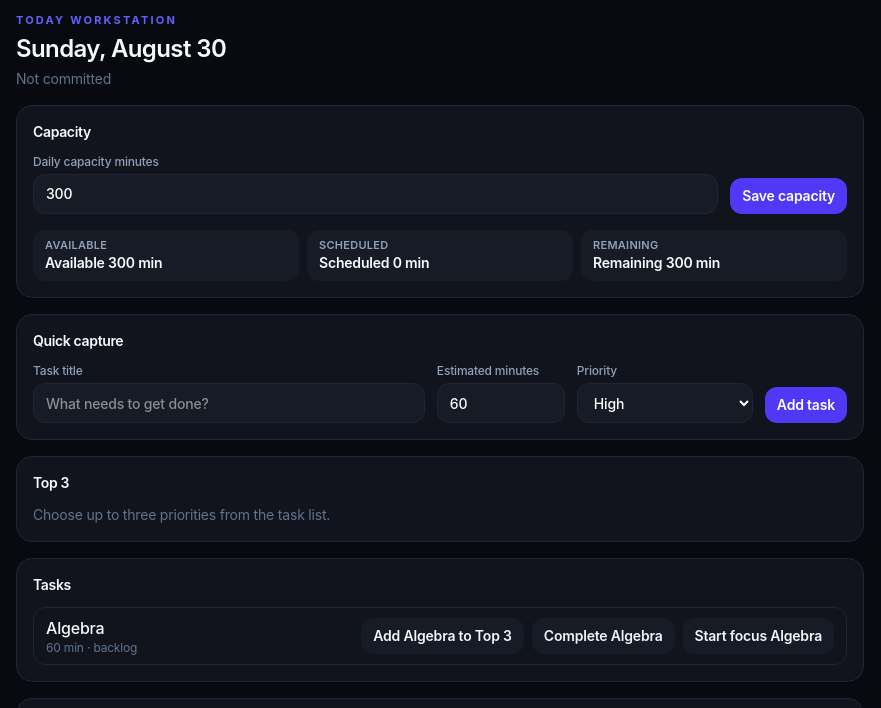
Test case: keeps previous view and shows error when persistence mutation fails
Expected: the button "Complete Algebra" is shown, [532, 618, 675, 654]
Step 1. Replace the text in the number field labelled "Daily capacity minutes" with "240" → (376, 194), box [33, 174, 718, 214]
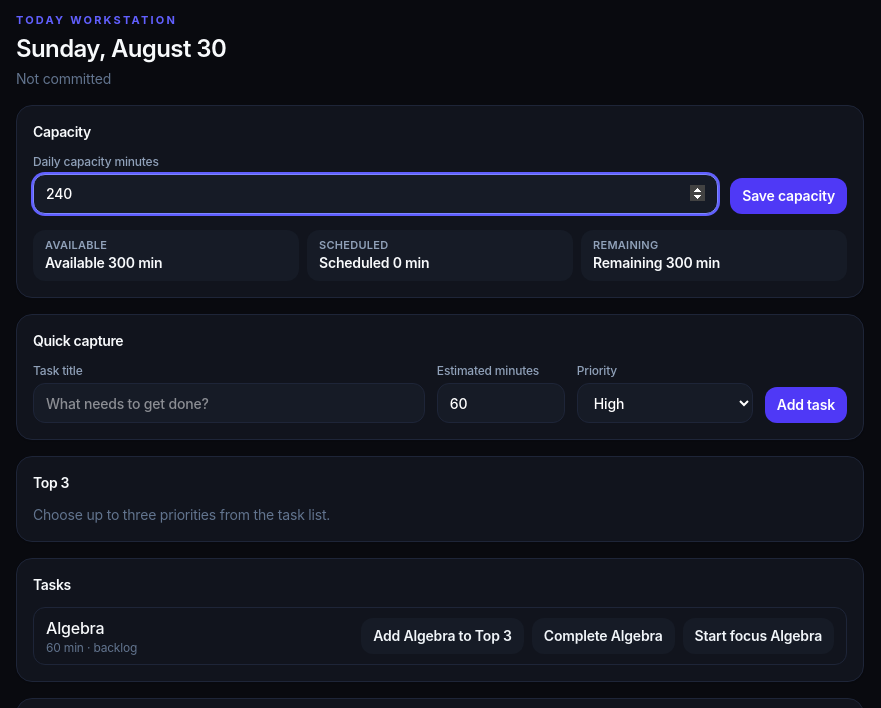
Step 2. Click the button "Save capacity" → (789, 196), box [730, 178, 847, 214]
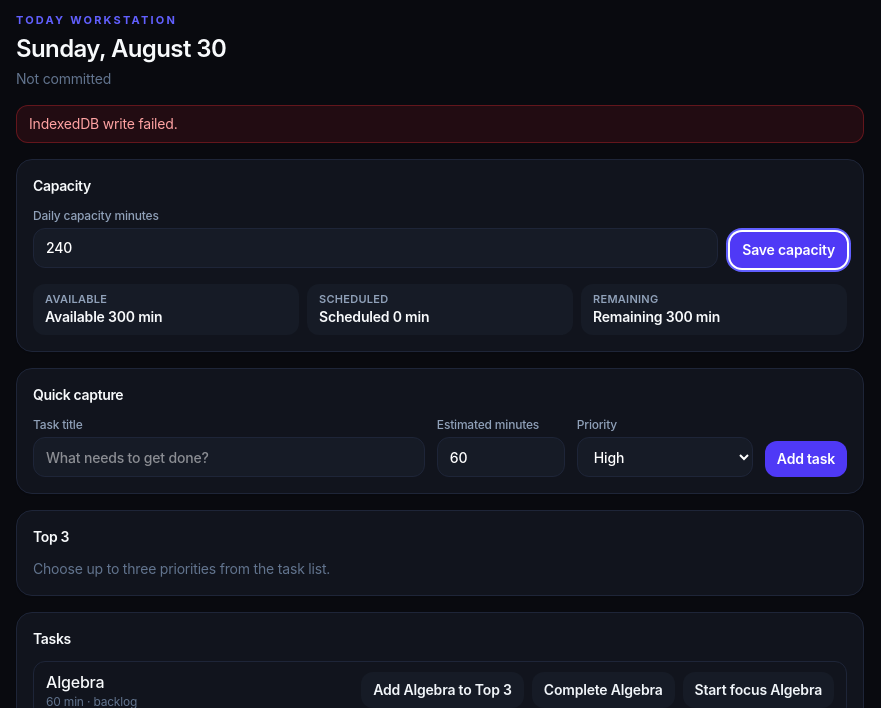
Expected: the button "Complete Algebra" is shown, [532, 672, 675, 707]
Result: the text "IndexedDB write failed." is shown at [16, 104, 864, 142]
